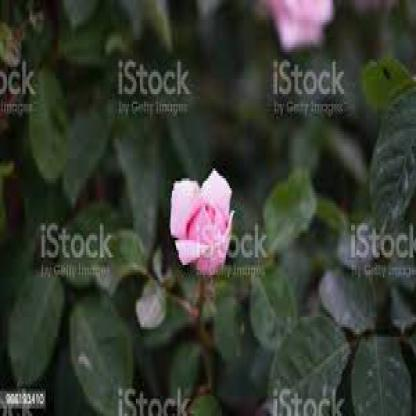Rose-Mawar: (165, 157, 237, 281)
